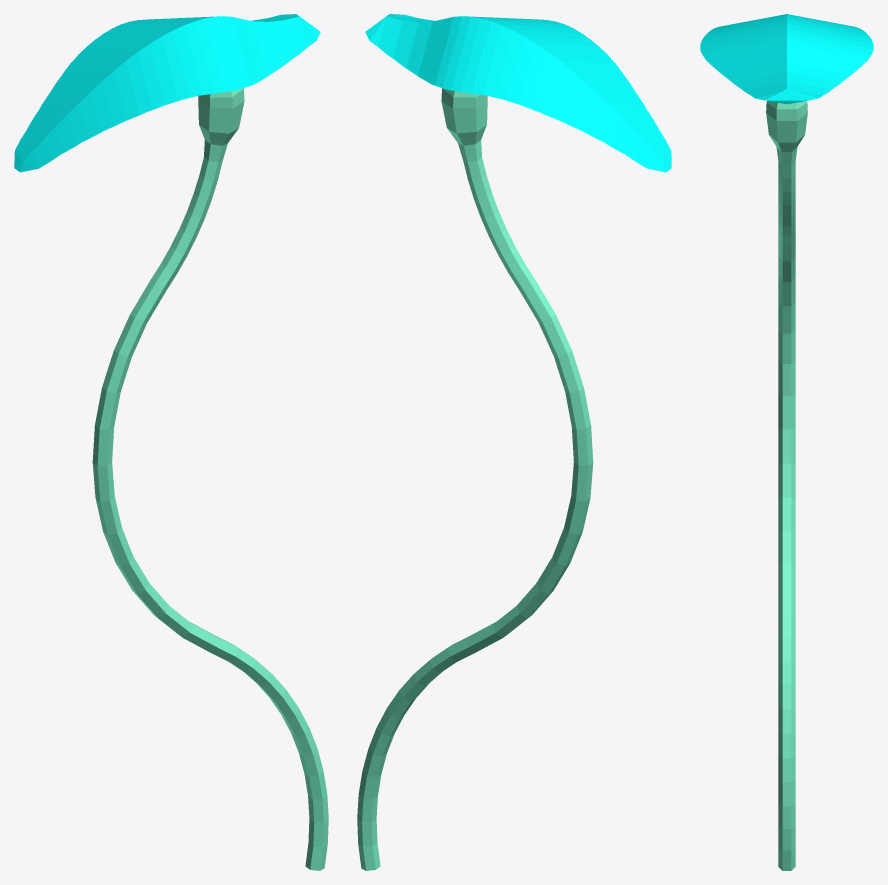
Rendered from Vegetation_Verdant_Plant_Frond_Bioluminescent_01.FBX.
3 views of the same model, side by side, from view 1: azimuth 30°, elevation 25°; view 2: azimuth 150°, elevation 25°; view 3: azimuth 270°, elevation 25° (orthographic). The views are drawn at different scales.
Parts seen in each view (by area): view 1: Vegetation_Verdant_Plant_Frond_Bioluminescent_01; view 2: Vegetation_Verdant_Plant_Frond_Bioluminescent_01; view 3: Vegetation_Verdant_Plant_Frond_Bioluminescent_01.
Part boxes in pixels (x1,y1,x2,y2): Vegetation_Verdant_Plant_Frond_Bioluminescent_01: [14, 14, 328, 870]; Vegetation_Verdant_Plant_Frond_Bioluminescent_01: [357, 14, 671, 870]; Vegetation_Verdant_Plant_Frond_Bioluminescent_01: [700, 14, 873, 870].
Size of the model in its own units: 599 by 1622 by 323.
